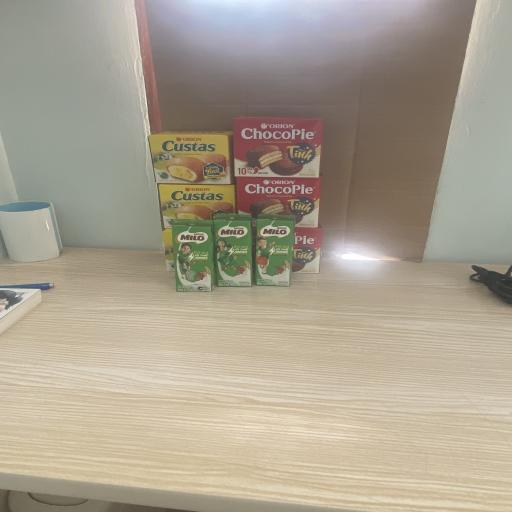chocopie: (233, 116, 324, 178), (236, 177, 322, 228), (291, 226, 323, 274)
custas: (148, 131, 234, 185), (157, 184, 237, 230), (162, 228, 176, 272)
milo: (171, 219, 216, 292), (212, 214, 254, 288), (253, 214, 295, 287)
